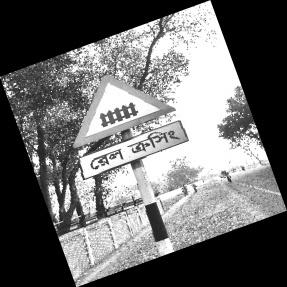Rail-crossing: (72, 76, 187, 182)
